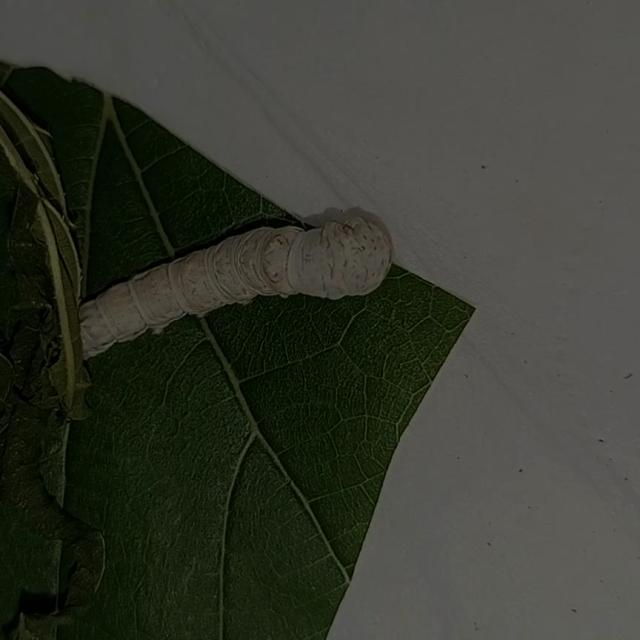Healthy: (66, 198, 404, 362)
